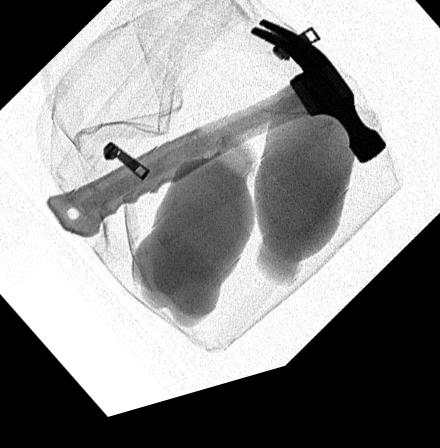Hammer: (45, 33, 386, 244)
